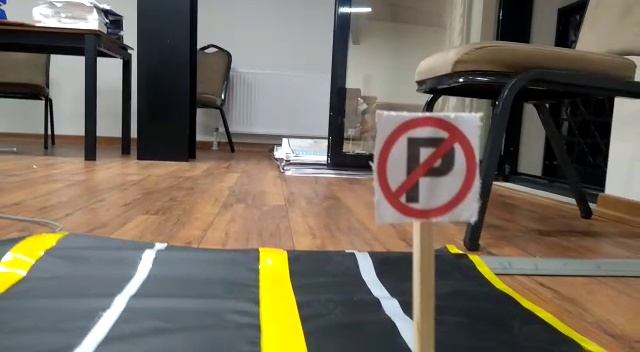park_yapilmaz: (377, 108, 481, 221)
